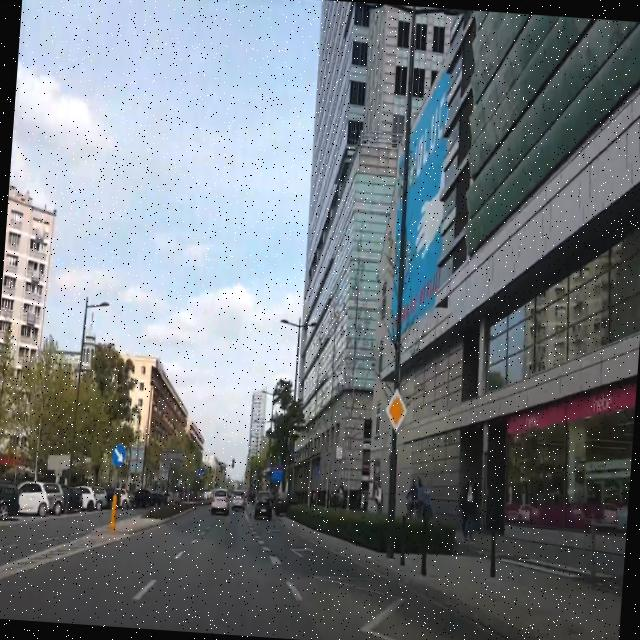Droga z pierwszenstwem: (382, 388, 408, 434)
